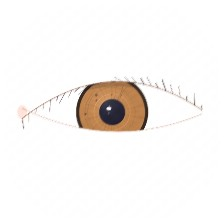pinguecula_lesion: (154, 106, 194, 137)
